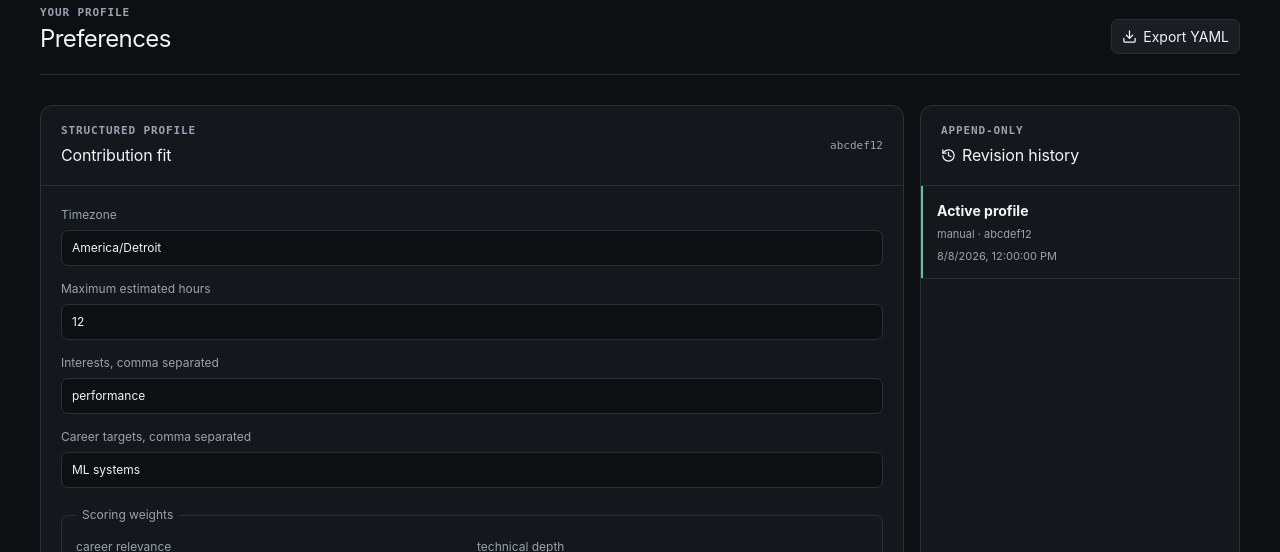
Test: validates a preference revision before activation
This screenshot has width=1280, height=552.
Replace the text in the field labelled "Timezone" with "UTC". click: [472, 248]
box: [61,230,883,266]
(page scrolled)
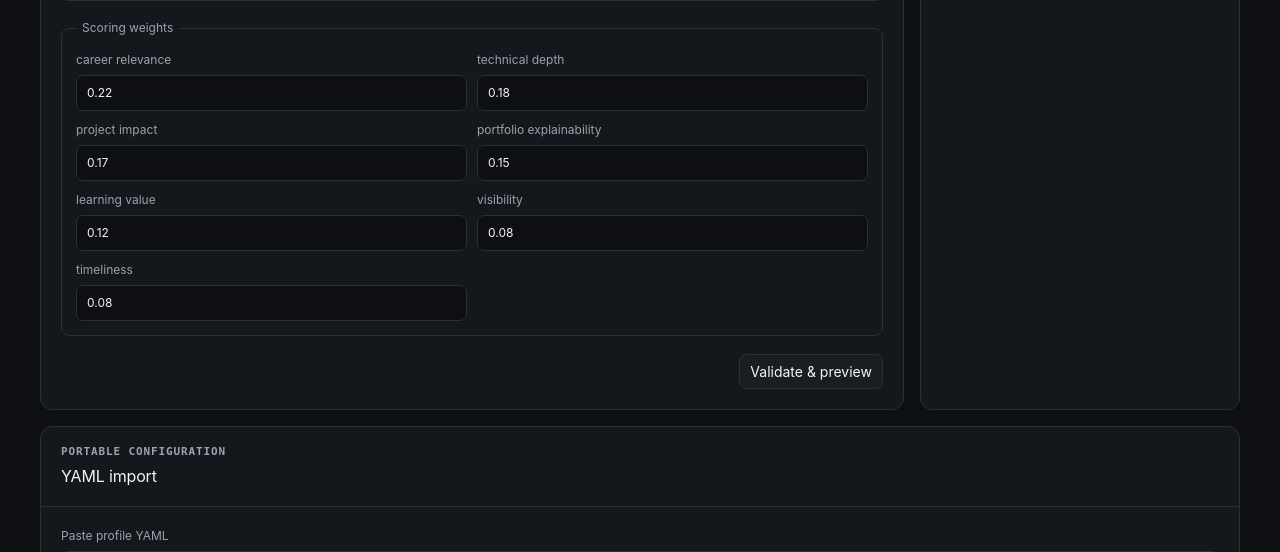
Click the button "Validate & preview". click: [811, 372]
box: [739,354,883,389]
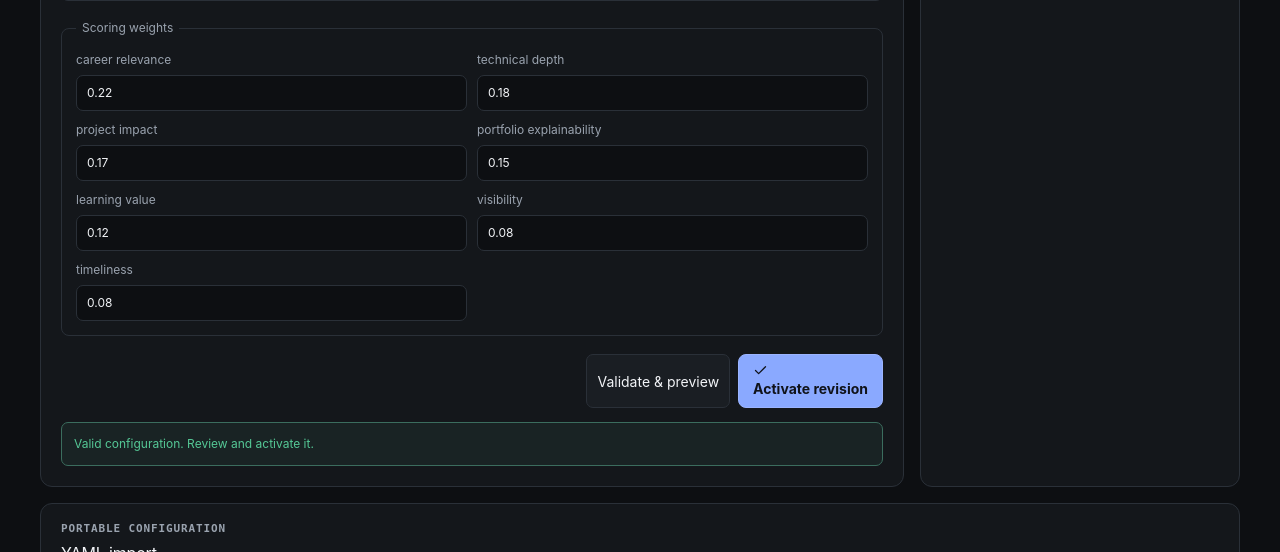
Check: the text "Valid configuration. Review and activate it." is shown, box [61,422,883,466]
Check: the button "Activate revision" is shown, box [738,354,883,408]
